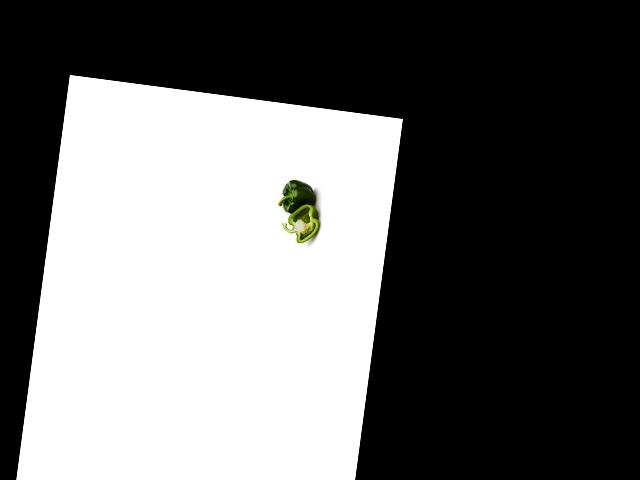bell_pepper: (278, 199, 321, 247)
